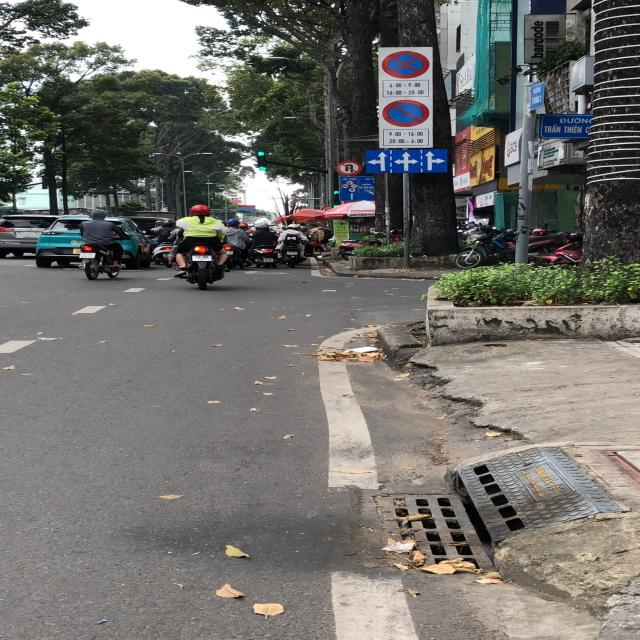Bien bao cam do xe: (381, 98, 432, 130)
Bien bao cam dung xe va do xe: (375, 48, 436, 81)
Bien bao cam quay dau xe: (336, 159, 363, 177)
